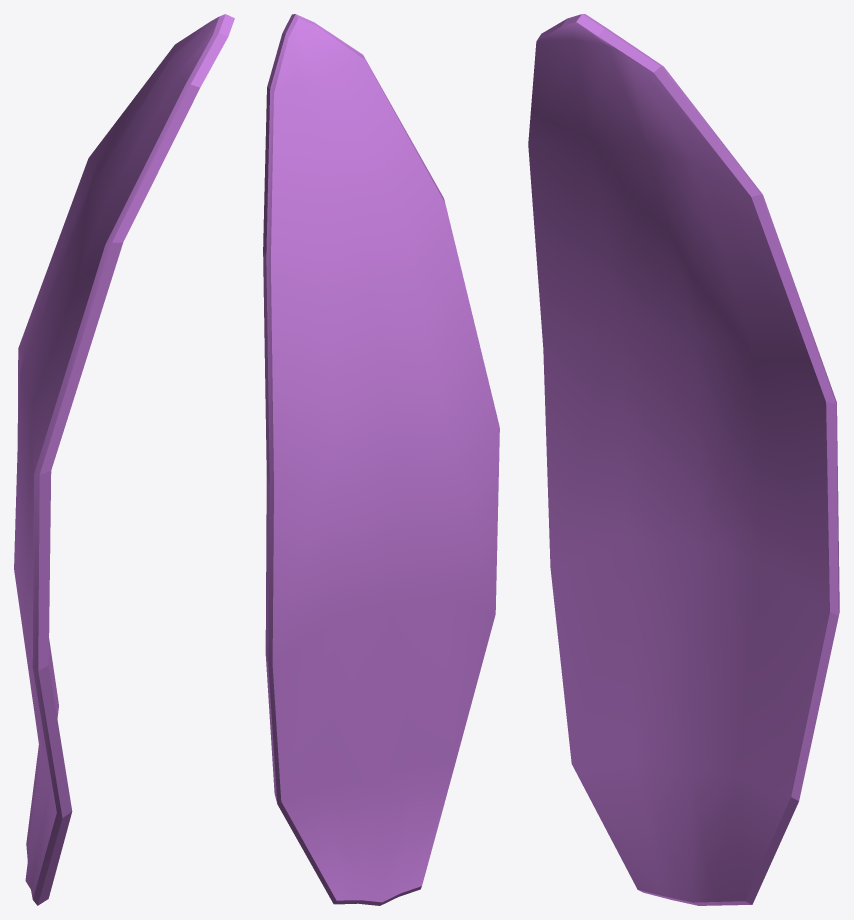
The model's file is Friday_Leaf1.fbx.
3 views of the same model, side by side, from view 1: azimuth 30°, elevation 25°; view 2: azimuth 150°, elevation 25°; view 3: azimuth 270°, elevation 25° (orthographic). The views are drawn at different scales.
Parts seen in each view (by area): view 1: polySurface7; view 2: polySurface7; view 3: polySurface7.
Boxes of the visible parts, x1,y1,x2,y2 form: polySurface7: (14,14,234,905); polySurface7: (263,14,499,905); polySurface7: (528,14,839,905).
Size of the model in its own units: 2.39 by 9.45 by 2.75.
